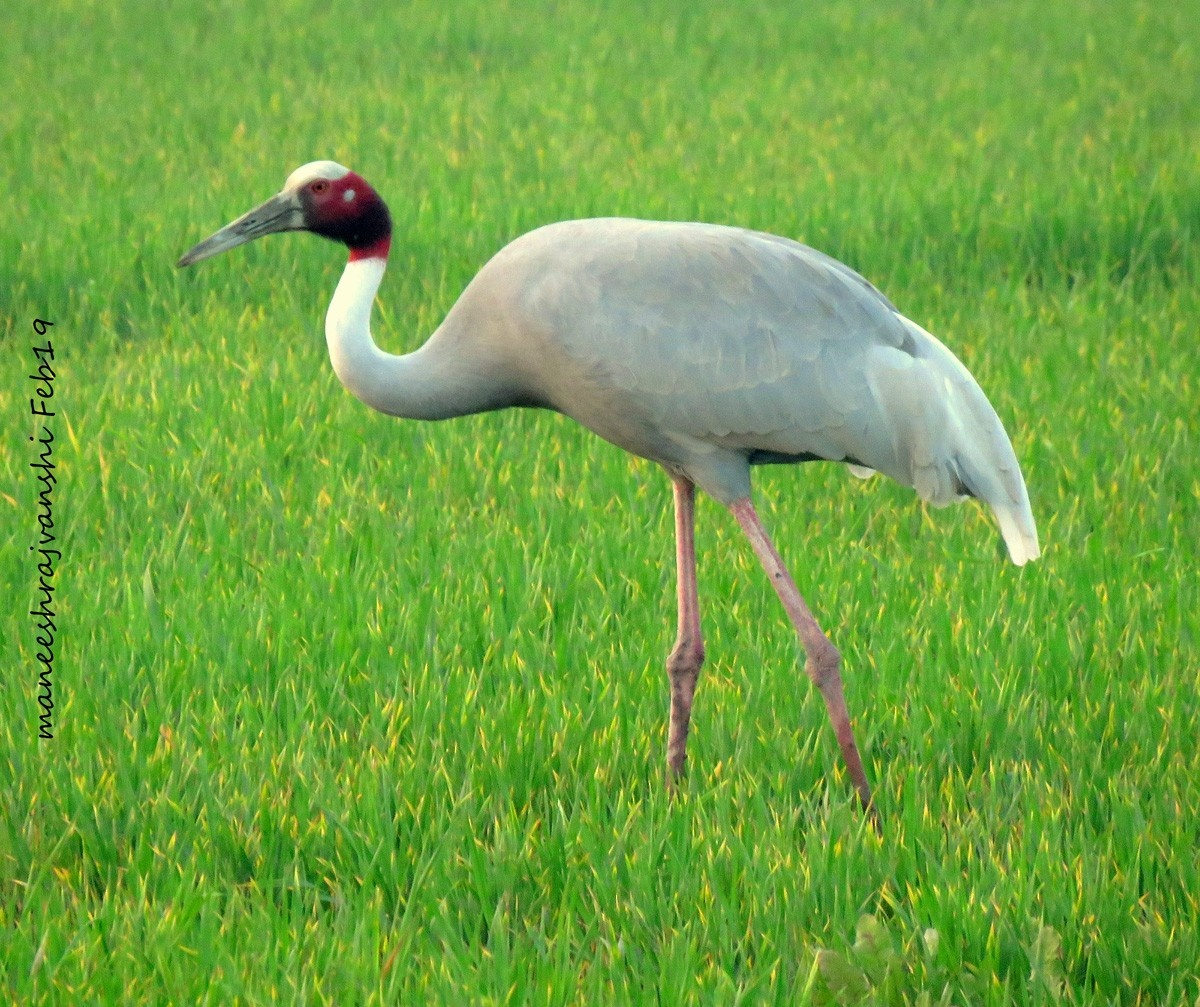crane: (184, 152, 1142, 857)
